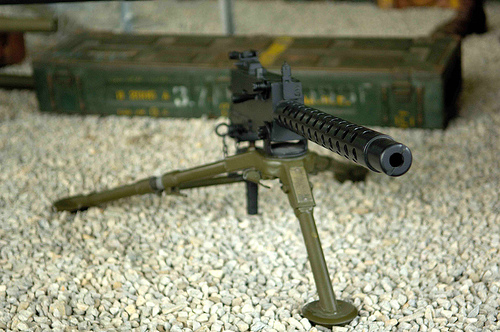rifle: (97, 37, 438, 300)
